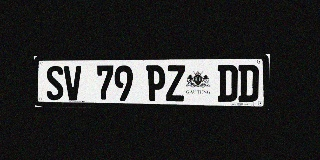7: (96, 65, 114, 101)
9: (114, 65, 133, 101)
D: (217, 65, 238, 102), (238, 65, 259, 102)
P: (146, 65, 165, 101)
S: (46, 66, 64, 100)
V: (64, 66, 82, 100)
Z: (166, 65, 185, 101)
